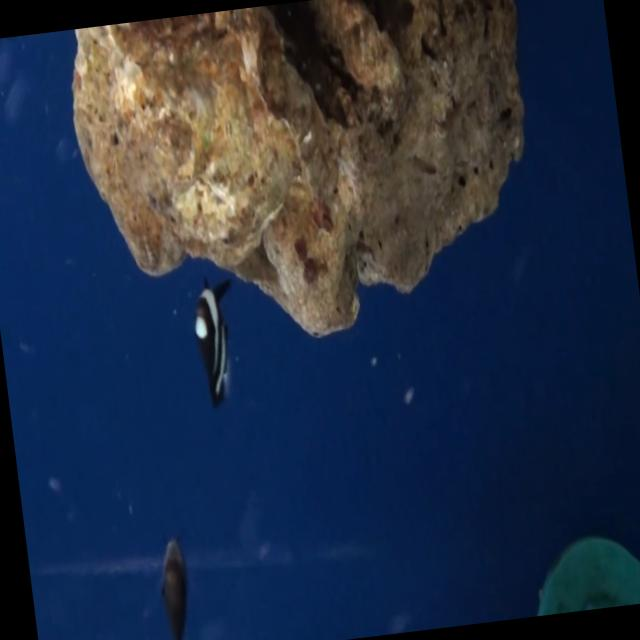ThreeStripedDamselfish: (182, 252, 250, 426)
